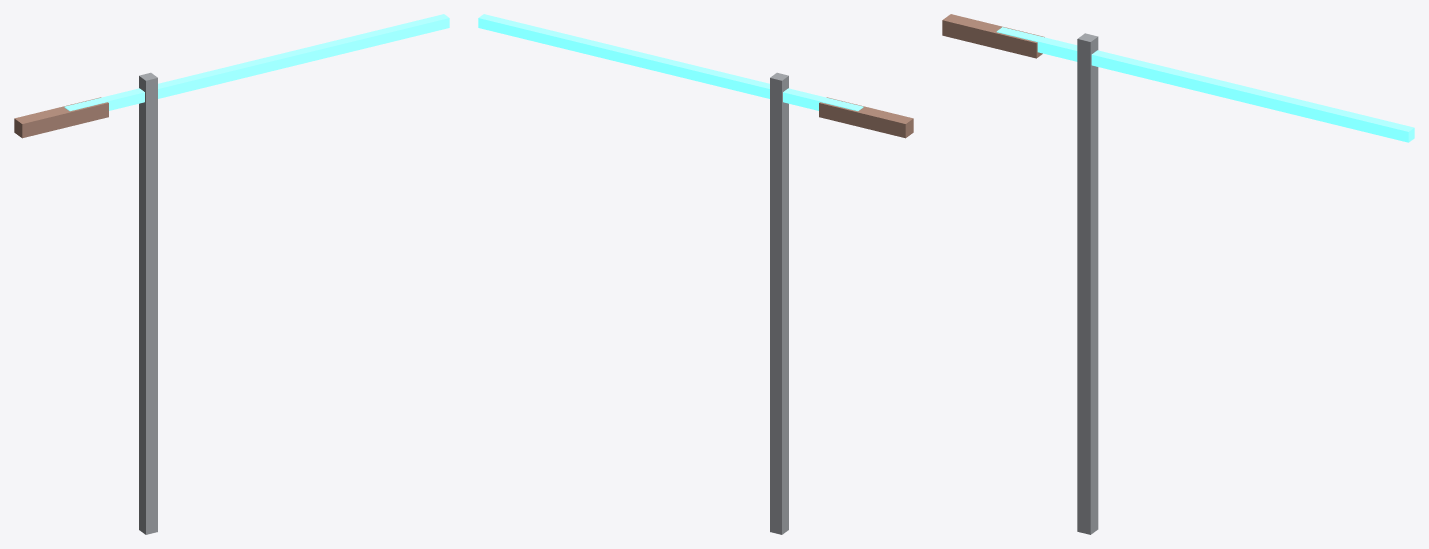
The model's file is crane_01.glb.
3 renders of one model, left to right at view 1: azimuth 30°, elevation 25°; view 2: azimuth 150°, elevation 25°; view 3: azimuth 330°, elevation 25°, orthographic. The views are drawn at different scales.
Parts seen in each view (by area): view 1: Mast, Jib, Counter; view 2: Mast, Jib, Counter; view 3: Mast, Jib, Counter.
Boxes of the visible parts, x1=… form: Mast: x1=139, y1=72, x2=157, y2=534; Jib: x1=64, y1=14, x2=449, y2=111; Counter: x1=14, y1=97, x2=108, y2=138; Mast: x1=770, y1=72, x2=788, y2=534; Jib: x1=478, y1=14, x2=863, y2=111; Counter: x1=819, y1=97, x2=913, y2=138; Mast: x1=1077, y1=33, x2=1098, y2=534; Jib: x1=996, y1=27, x2=1414, y2=142; Counter: x1=942, y1=14, x2=1044, y2=58.
Bounding box in the file's own units: 15.8 × 16 × 0.5.
